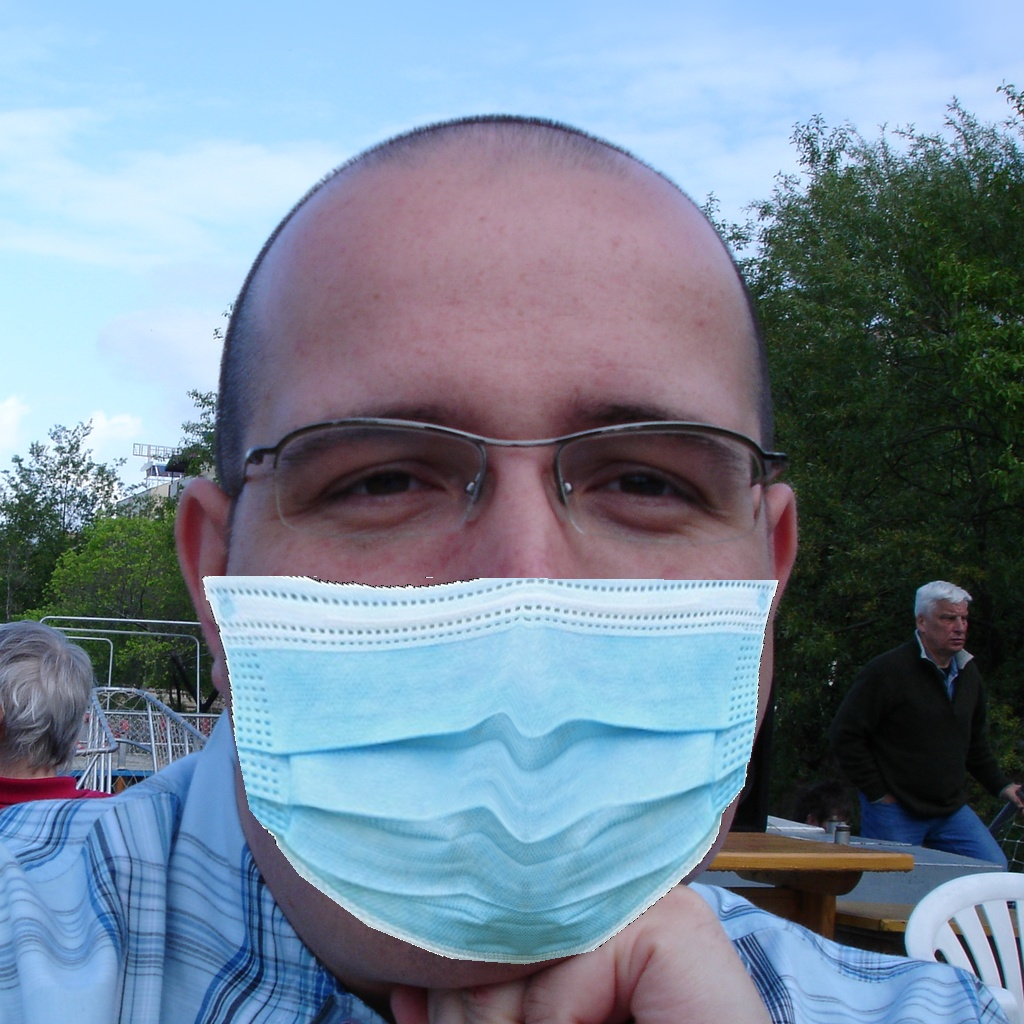Mask: (197, 376, 783, 967)
